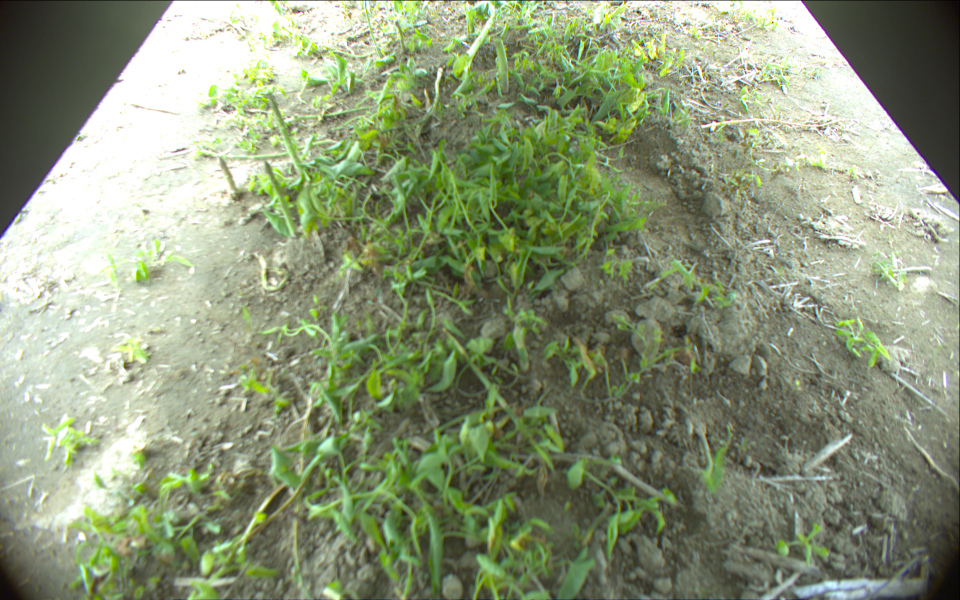aspa: (268, 95, 305, 178), (263, 161, 300, 240), (465, 2, 497, 69), (362, 1, 384, 53), (217, 154, 238, 198), (494, 37, 510, 93), (394, 19, 408, 54)
